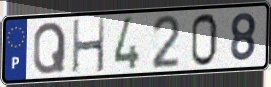0: (189, 12, 221, 68)
2: (150, 13, 182, 71)
4: (112, 14, 143, 73)
8: (229, 11, 258, 63)
H: (71, 16, 106, 75)
Q: (31, 20, 68, 76)
